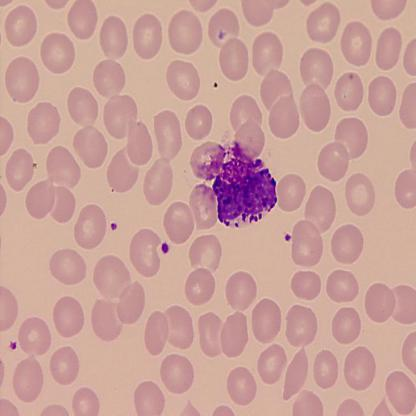Basophil: (212, 153, 280, 232)
